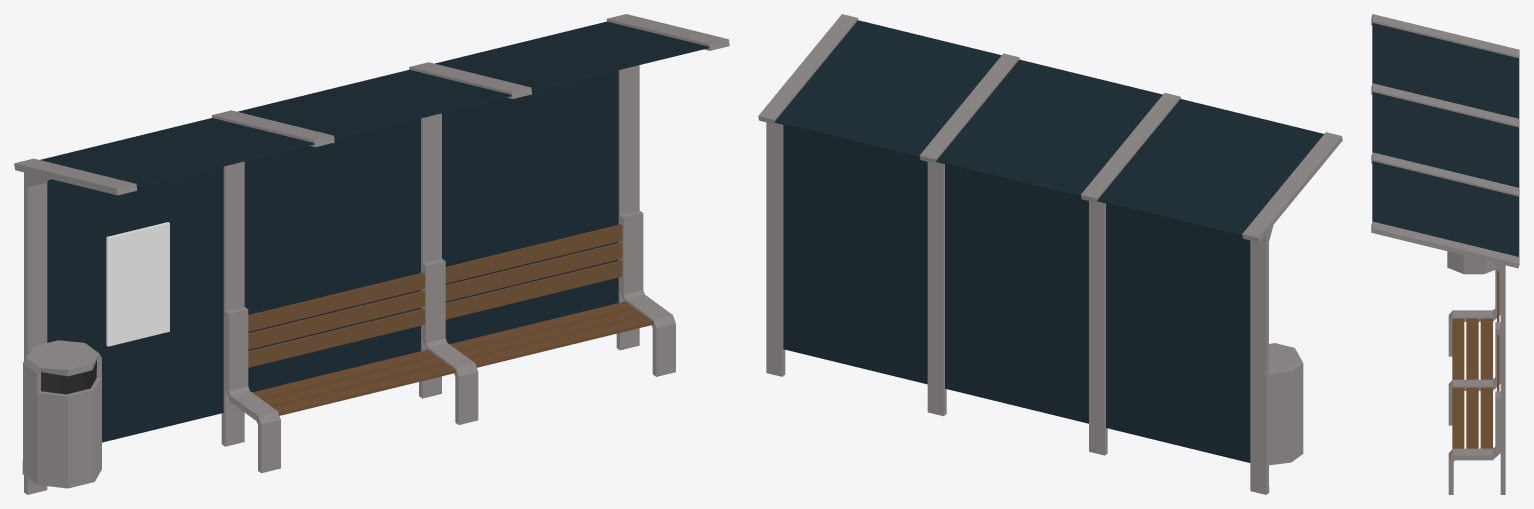
The model's file is bus-stop.glb.
The picture shows the model from 3 angles, left to right: view 1: azimuth 30°, elevation 25°; view 2: azimuth 150°, elevation 25°; view 3: azimuth 270°, elevation 25°; orthographic projection. The views are drawn at different scales.
Visible parts, largest first — view 1: bus-stop; view 2: bus-stop; view 3: bus-stop.
Boxes of the visible parts, bbox=[...] form: bus-stop: bbox=[14, 14, 729, 494]; bus-stop: bbox=[758, 14, 1342, 494]; bus-stop: bbox=[1371, 14, 1519, 494].
Bounding box in the file's own units: 5.13 × 2.9 × 1.46.
Materials: 1 (1 with a texture image).
